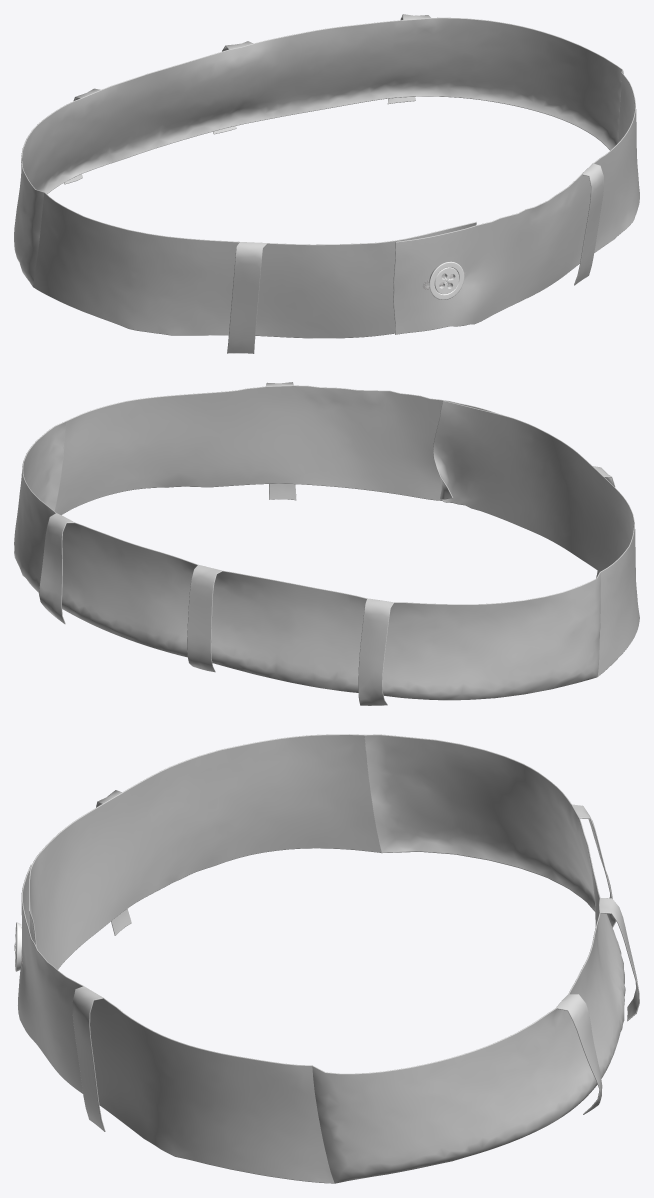
Rendered from belt_loops.glb.
3 renders of one model, top to bottom at view 1: azimuth 30°, elevation 25°; view 2: azimuth 150°, elevation 25°; view 3: azimuth 270°, elevation 25°, orthographic. The views are drawn at different scales.
Visible parts, largest first — view 1: Belt_Node, Belt_Node.001, Belt_Node.002, Belt_Node.006, Belt_Node.007, button; view 2: Belt_Node, Belt_Node.002, Belt_Node.001, Belt_Node.004, Belt_Node.005, Belt_Node.003, Belt_Node.007; view 3: Belt_Node, Belt_Node.001, Belt_Node.002, Belt_Node.007, Belt_Node.003, Belt_Node.005.
Part boxes in pixels (bbox=[...]): Belt_Node: bbox=[14, 17, 623, 286]; Belt_Node.001: bbox=[33, 192, 476, 338]; Belt_Node.002: bbox=[393, 72, 639, 334]; Belt_Node.006: bbox=[227, 242, 267, 353]; Belt_Node.007: bbox=[574, 163, 603, 285]; button: bbox=[429, 261, 464, 299]; Belt_Node: bbox=[14, 421, 600, 700]; Belt_Node.002: bbox=[54, 385, 501, 514]; Belt_Node.001: bbox=[433, 400, 639, 676]; Belt_Node.004: bbox=[358, 598, 393, 705]; Belt_Node.005: bbox=[187, 565, 222, 672]; Belt_Node.003: bbox=[38, 513, 74, 624]; Belt_Node.007: bbox=[266, 382, 296, 500]; Belt_Node: bbox=[312, 734, 625, 1183]; Belt_Node.001: bbox=[29, 734, 381, 969]; Belt_Node.002: bbox=[18, 864, 334, 1183]; Belt_Node.007: bbox=[72, 986, 105, 1131]; Belt_Node.003: bbox=[556, 994, 602, 1114]; Belt_Node.005: bbox=[599, 898, 639, 1021].
Bounding box in the file's own units: 32.39 × 6.37 × 25.19.
3 materials, 1 textured.
